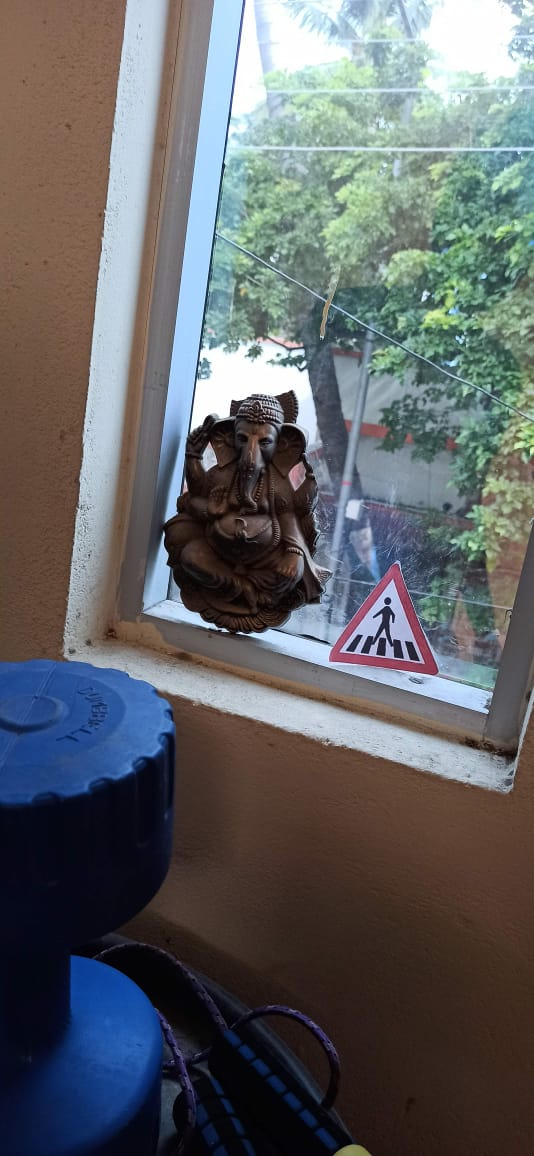PEDESTRIAN CROSSING: (322, 539, 443, 684)
